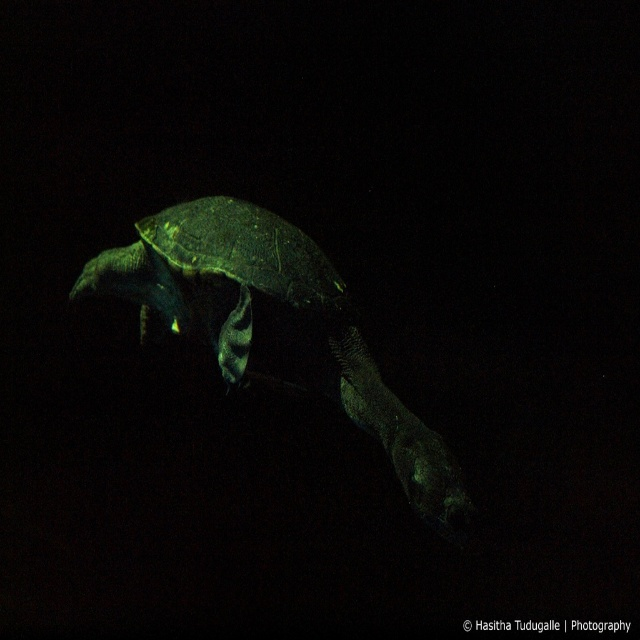Sea turtle: (64, 194, 473, 531)
